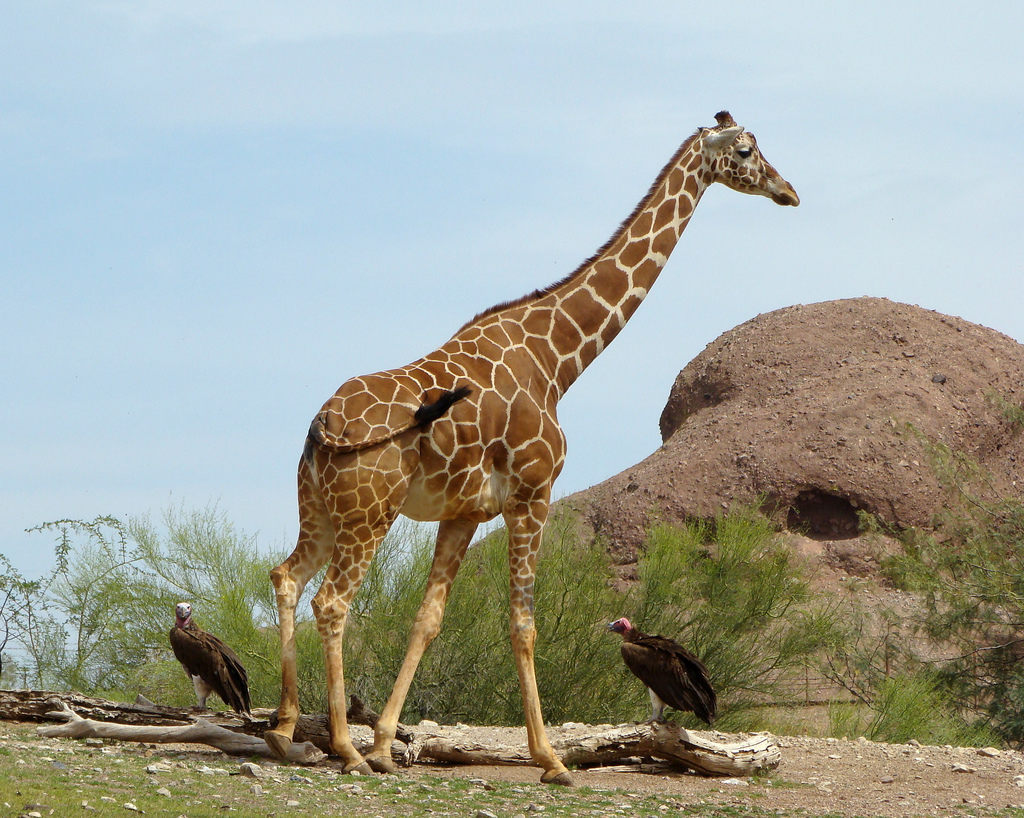giraffe: (249, 96, 837, 769)
